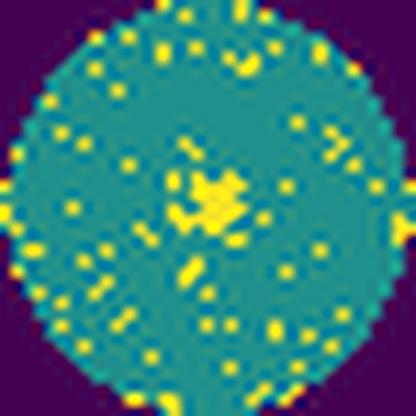Center: (162, 168, 250, 244)
